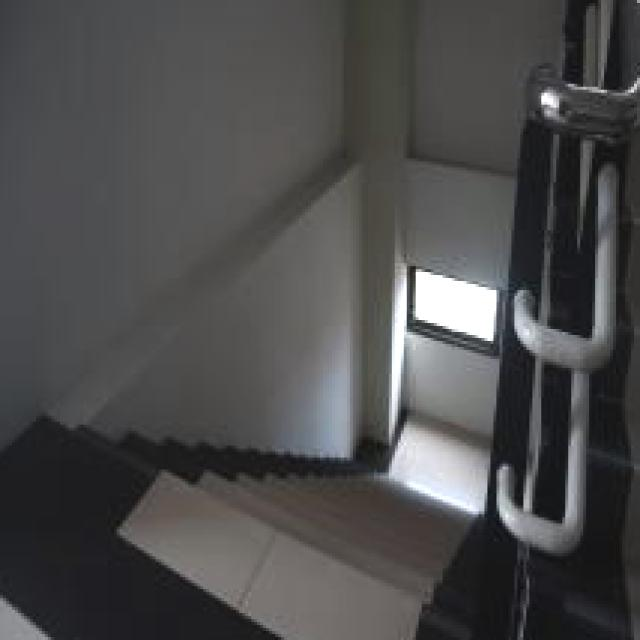downstair: (117, 404, 488, 640)
